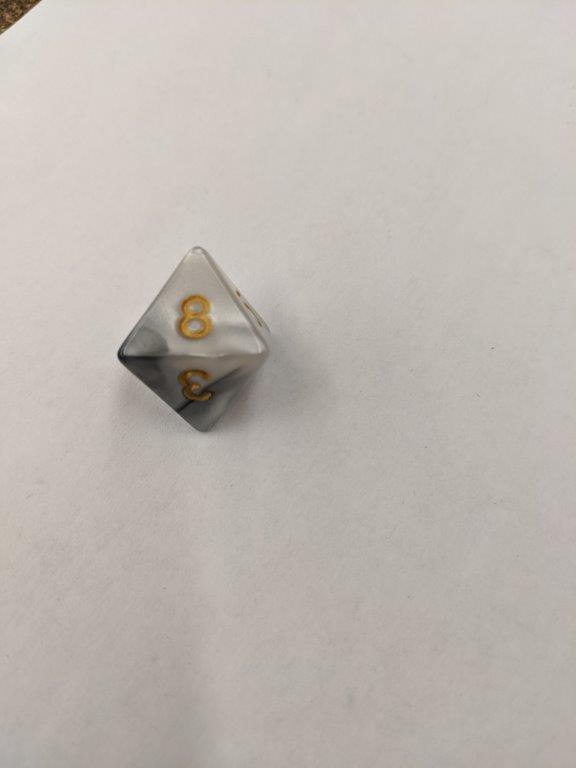d8-8: (111, 244, 274, 437)
